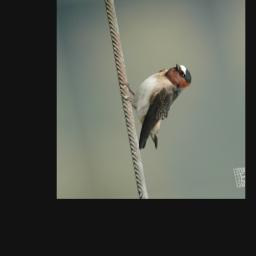Swallow: (118, 58, 208, 153)
